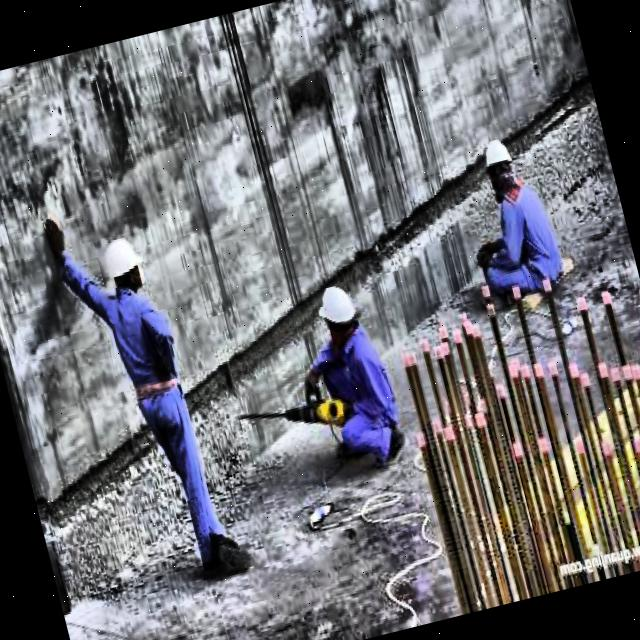helmet: (310, 280, 364, 346), (99, 232, 150, 298), (477, 132, 522, 202)
